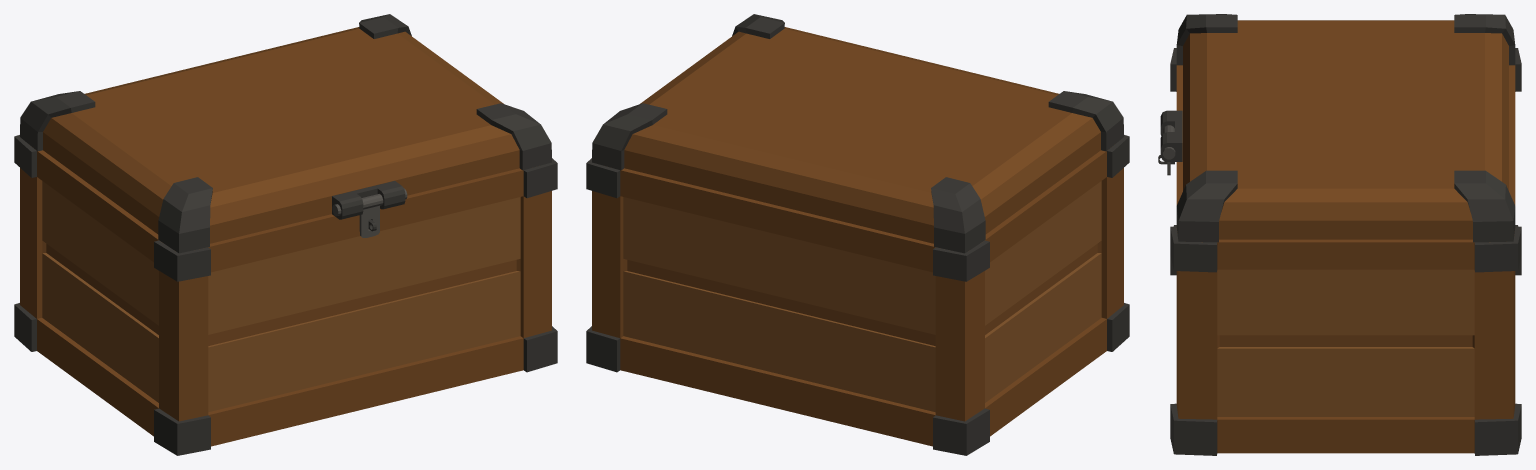
File: StorageChest.fbx
The picture shows the model from 3 angles, left to right: view 1: azimuth 30°, elevation 25°; view 2: azimuth 150°, elevation 25°; view 3: azimuth 270°, elevation 25°; orthographic projection. The views are drawn at different scales.
Parts seen in each view (by area): view 1: Wood Chest, Lid, Latch; view 2: Wood Chest, Lid; view 3: Wood Chest, Lid.
Part boxes in pixels (box(x1,y1,x2,y2)): Wood Chest: box(14, 135, 557, 455); Lid: box(20, 14, 551, 253); Latch: box(332, 188, 407, 237); Wood Chest: box(586, 135, 1129, 455); Lid: box(592, 14, 1123, 253); Wood Chest: box(1158, 48, 1521, 455); Lid: box(1160, 14, 1515, 242).
Bounding box in the file's own units: 73.94 × 44.69 × 57.17.
